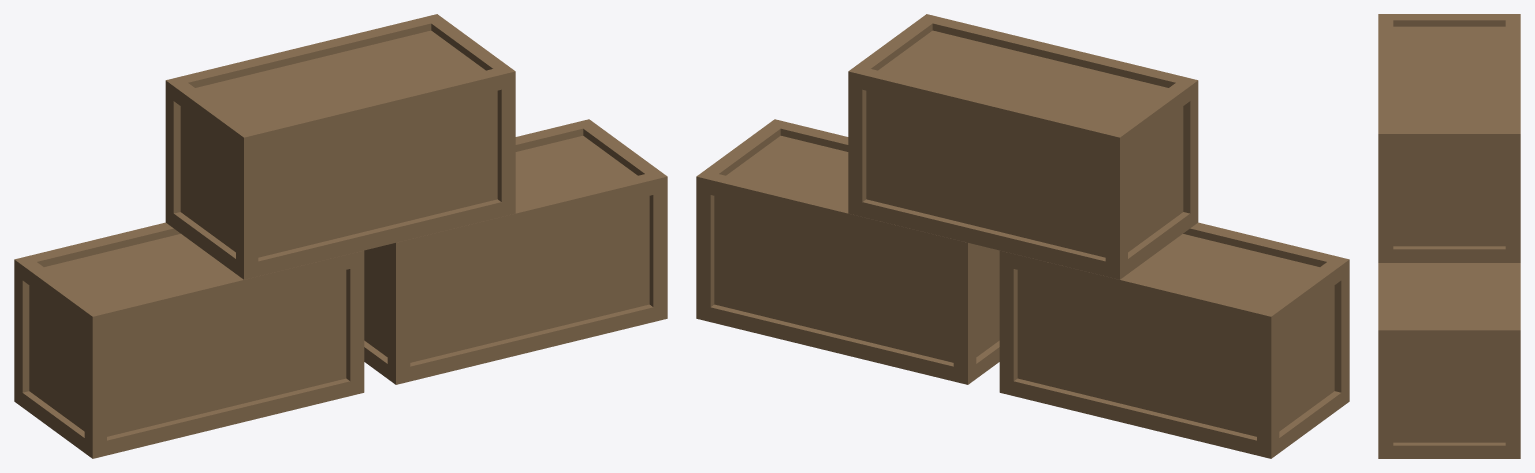
Rendered from 05 Boxes.FBX.
3 views of the same model, side by side, from view 1: azimuth 30°, elevation 25°; view 2: azimuth 150°, elevation 25°; view 3: azimuth 270°, elevation 25° (orthographic). The views are drawn at different scales.
Parts seen in each view (by area): view 1: Box279; view 2: Box279; view 3: Box279.
Part boxes in pixels (x1,y1,x2,y2): Box279: [14, 14, 667, 458]; Box279: [696, 14, 1349, 458]; Box279: [1378, 14, 1520, 458].
Bounding box in the file's own units: 632 × 299 × 149.
